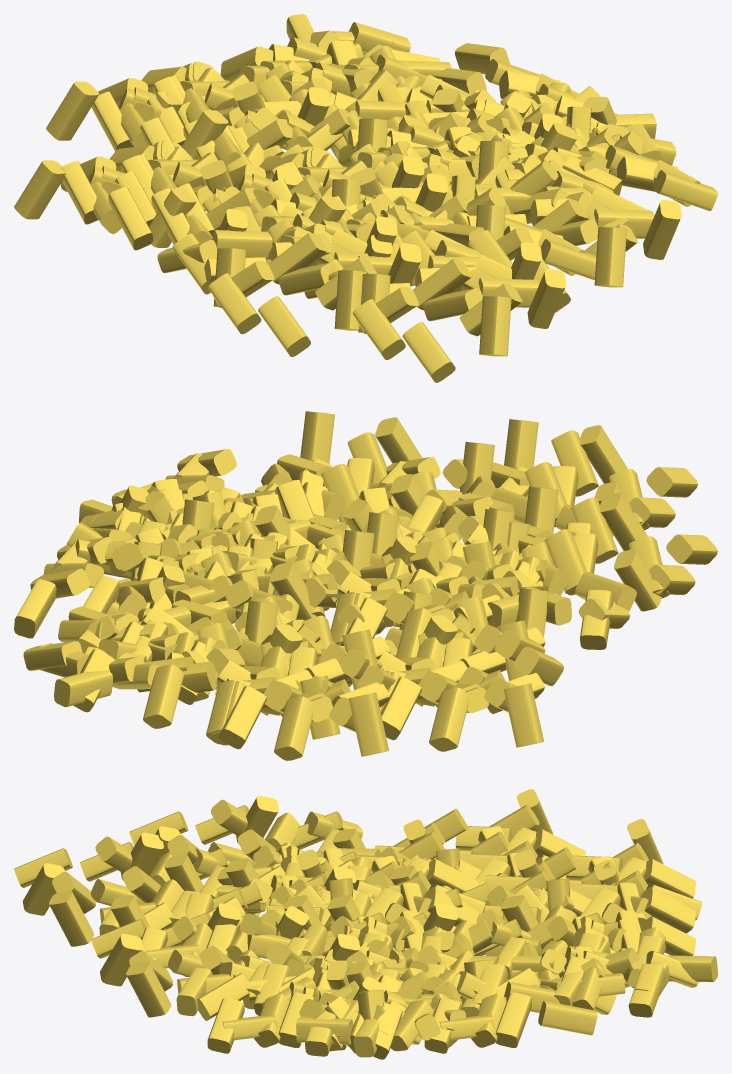
Rendered from Cheese_Shredded.fbx.
3 views of the same model, one above another, from view 1: azimuth 30°, elevation 25°; view 2: azimuth 150°, elevation 25°; view 3: azimuth 270°, elevation 25° (orthographic). The views are drawn at different scales.
Parts seen in each view (by area): view 1: Cheese_Shredded; view 2: Cheese_Shredded; view 3: Cheese_Shredded.
Part boxes in pixels (x1,y1,x2,y2): Cheese_Shredded: [14, 14, 717, 382]; Cheese_Shredded: [14, 411, 717, 760]; Cheese_Shredded: [14, 789, 717, 1059].
Bounding box in the file's own units: 9.82 × 1.33 × 11.96.
